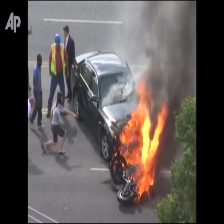fire_h: (116, 76, 168, 203)
fire_l: (110, 150, 117, 163), (113, 160, 118, 173), (121, 160, 125, 168)
